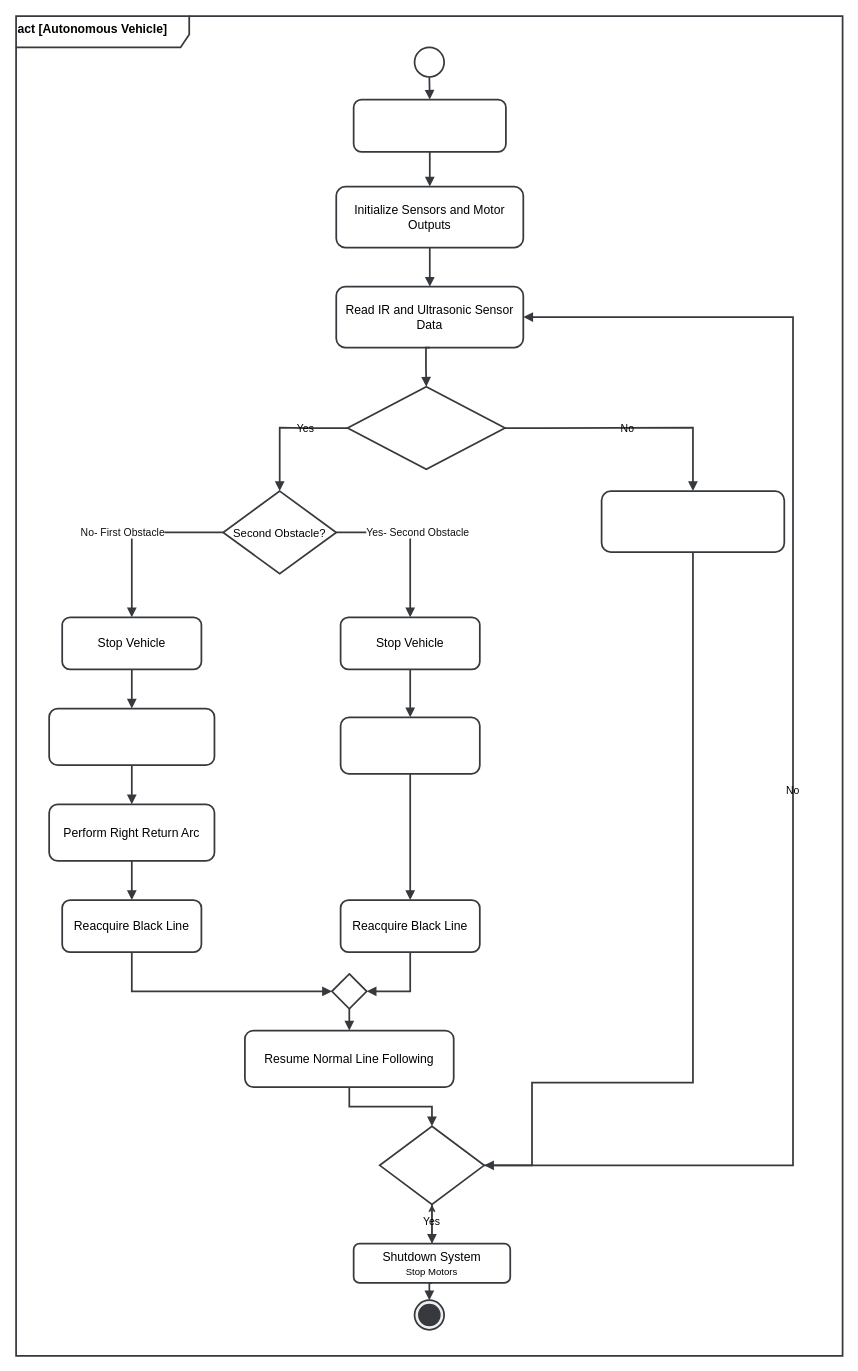
Some shapes in this 858 by 1371 pixel diagram are drawn without their labels. Here are the shapes that lost their labels. From the top down, the centre of each, then its label:
At (429,125): "Switch On System".
At (425,427): "Obstacle Detected? 0 < distance ≤ 18 cm".
At (692,521): "Follow Line and Apply Steering Correction".
At (131,736): "Perform Left Avoidance Arc".
At (409,745): "Perform 180° Turn".
At (431,1165): "Switch Off?".
